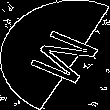M_SE: (12, 23, 98, 87)
